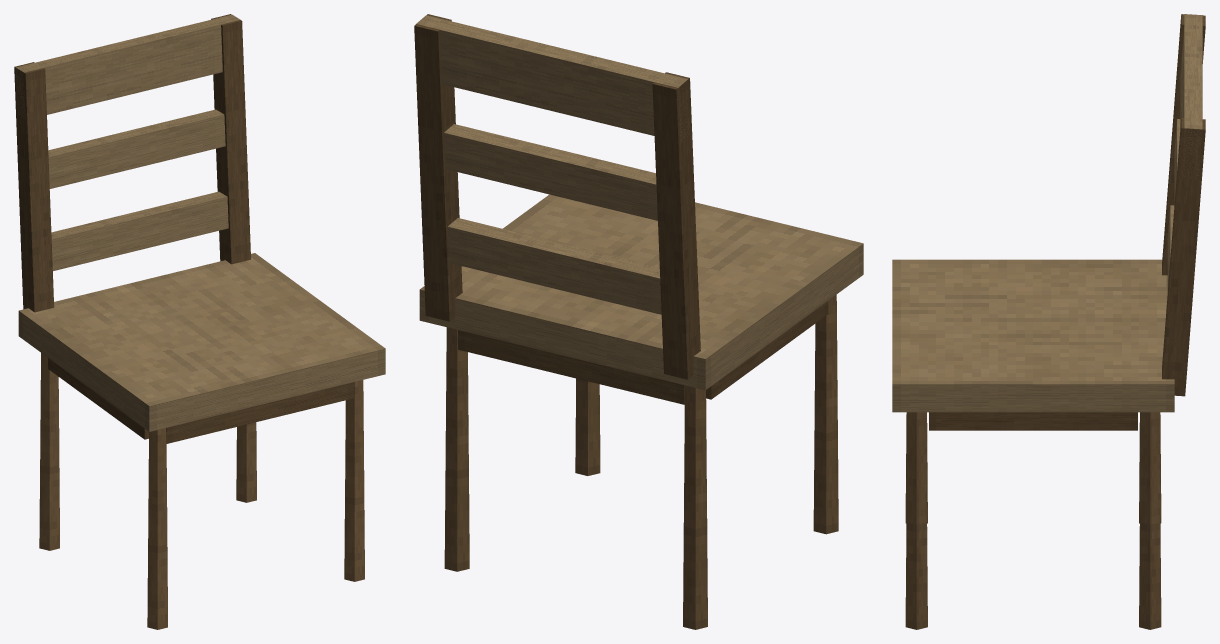
Rendered from chair.glb.
The picture shows the model from 3 angles, left to right: view 1: azimuth 30°, elevation 25°; view 2: azimuth 150°, elevation 25°; view 3: azimuth 270°, elevation 25°; orthographic projection. The views are drawn at different scales.
Visible parts, largest first — view 1: core_chair; view 2: core_chair; view 3: core_chair.
Part boxes in pixels (x1,y1,x2,y2): core_chair: [14, 14, 385, 629]; core_chair: [414, 14, 863, 629]; core_chair: [892, 14, 1205, 629].
Size of the model in its own units: 0.48 by 0.9009 by 0.5105.
1 material, 1 textured.
